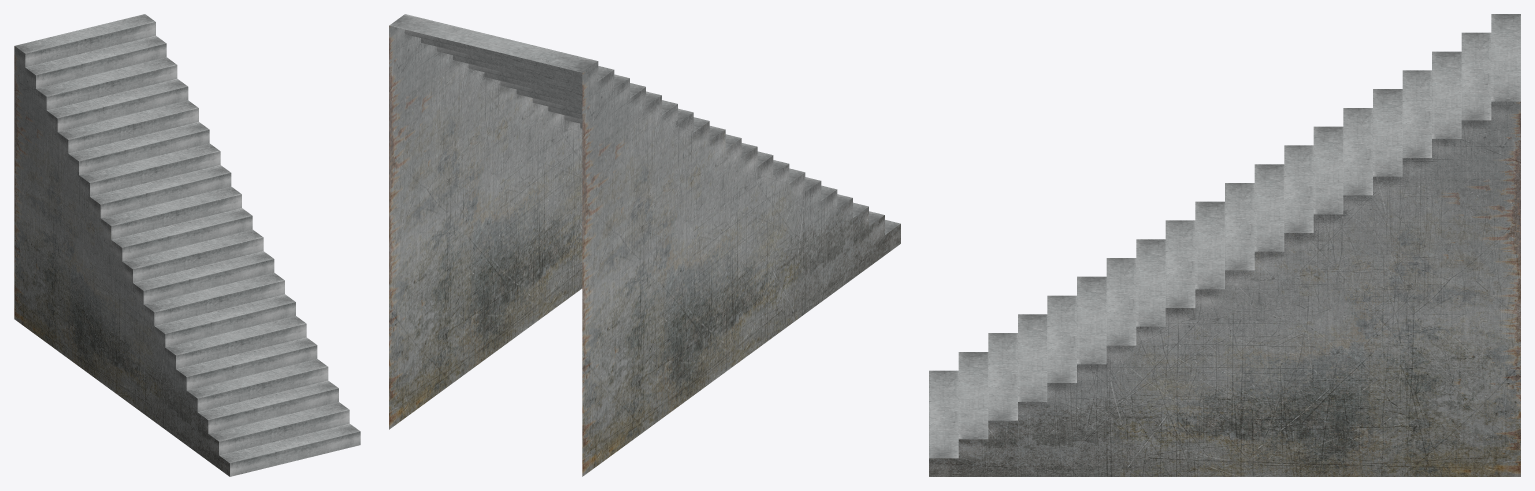
File: stairs.fbx
3 renders of one model, left to right at view 1: azimuth 30°, elevation 25°; view 2: azimuth 150°, elevation 25°; view 3: azimuth 270°, elevation 25°, orthographic. The views are drawn at different scales.
Visible parts, largest first — view 1: polySurface17; view 2: polySurface17; view 3: polySurface17.
Part boxes in pixels (<box>): polySurface17: <box>14,14,360,476</box>; polySurface17: <box>389,14,900,476</box>; polySurface17: <box>929,14,1520,476</box>.
Bounding box in the file's own units: 300 × 600 × 857.
Materials: 1 (1 with a texture image).
